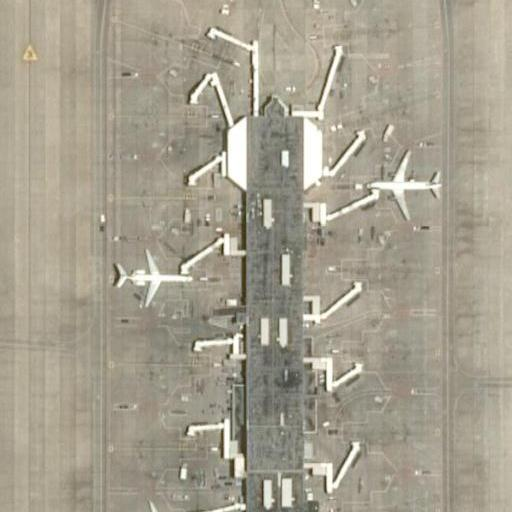Aircraft: (365, 151, 444, 221), (106, 250, 197, 308), (113, 500, 199, 512)
